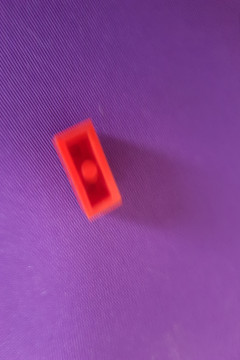1x2 red: (53, 117, 123, 222)
